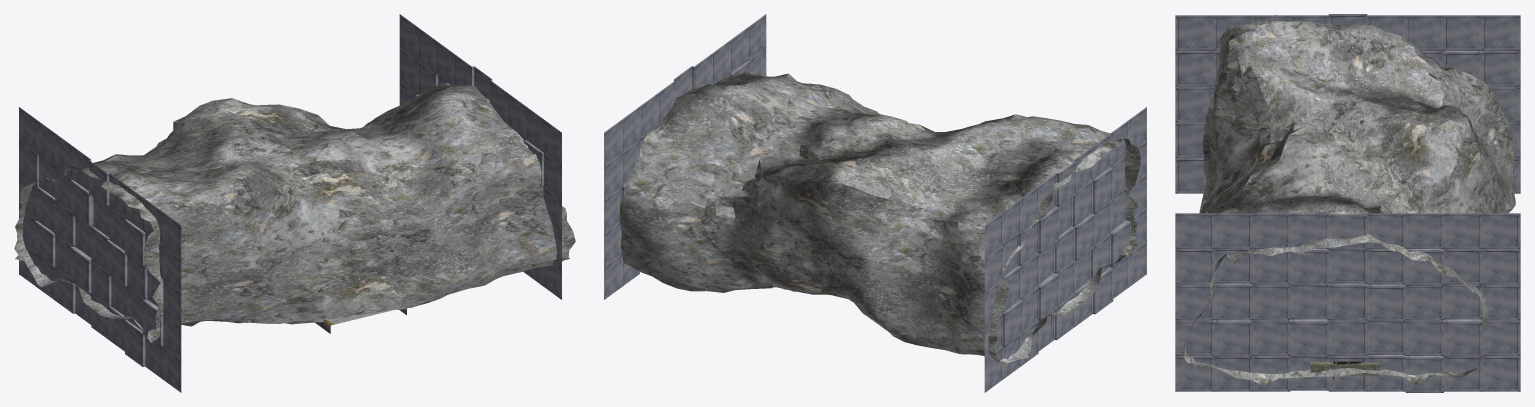
File: modernroom_early.obj
3 views of the same model, side by side, from view 1: azimuth 30°, elevation 25°; view 2: azimuth 150°, elevation 25°; view 3: azimuth 270°, elevation 25° (orthographic). The views are drawn at different scales.
Parts seen in each view (by area): view 1: Cave, HeadWall02, HeadWall01; view 2: Cave, HeadWall02, HeadWall01; view 3: HeadWall01, Cave, HeadWall02, PillarBase.
Boxes of the visible parts, x1,y1,x2,y2 form: Cave: [14, 82, 575, 342]; HeadWall02: [19, 107, 181, 392]; HeadWall01: [399, 14, 561, 299]; Cave: [619, 71, 1140, 364]; HeadWall02: [984, 107, 1146, 392]; HeadWall01: [604, 14, 766, 299]; HeadWall01: [1175, 213, 1520, 392]; Cave: [1184, 15, 1515, 385]; HeadWall02: [1175, 14, 1520, 193]; PillarBase: [1310, 361, 1380, 375].
Size of the model in its own units: 127 by 48.01 by 84.23.
Materials: 10 (10 with a texture image).
